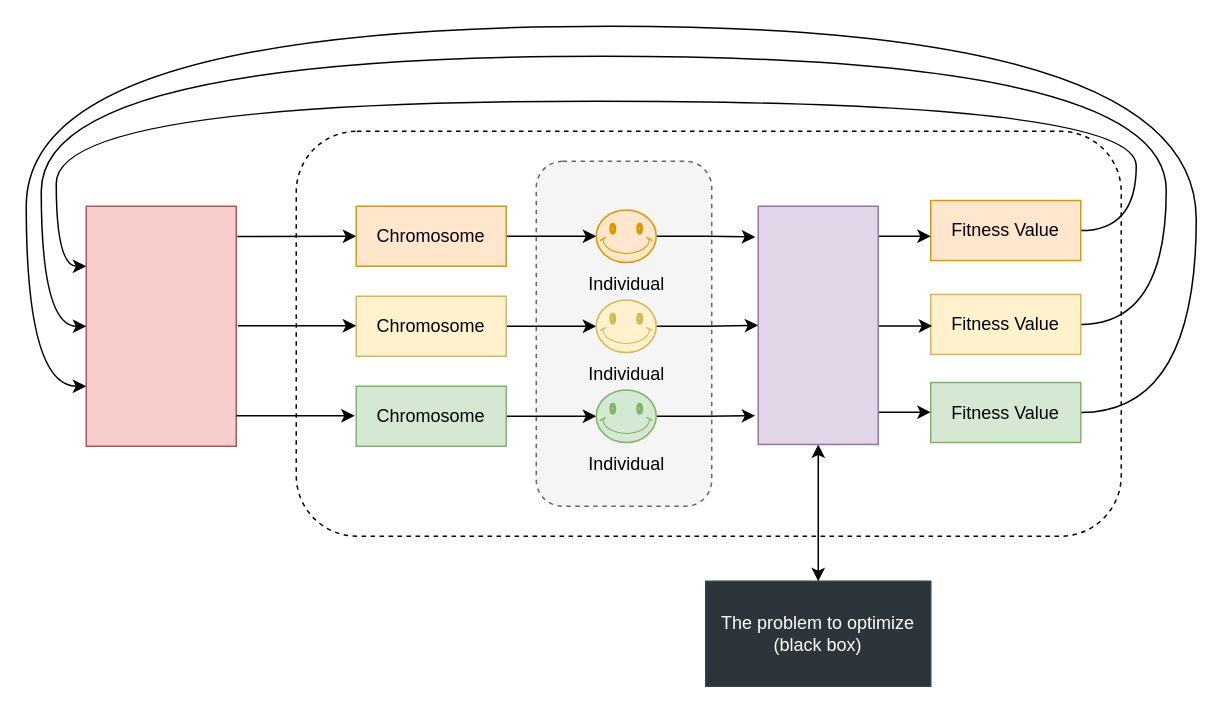
Image size: 1223x713. Some labels were removed from this diagram. Each missing label, with the box of its shape:
Evolutionary Algorithm: (85, 205, 236, 446)
Fitness Function: (757, 205, 878, 444)
Generation: (295, 130, 1121, 536)
Population: (535, 160, 712, 506)
